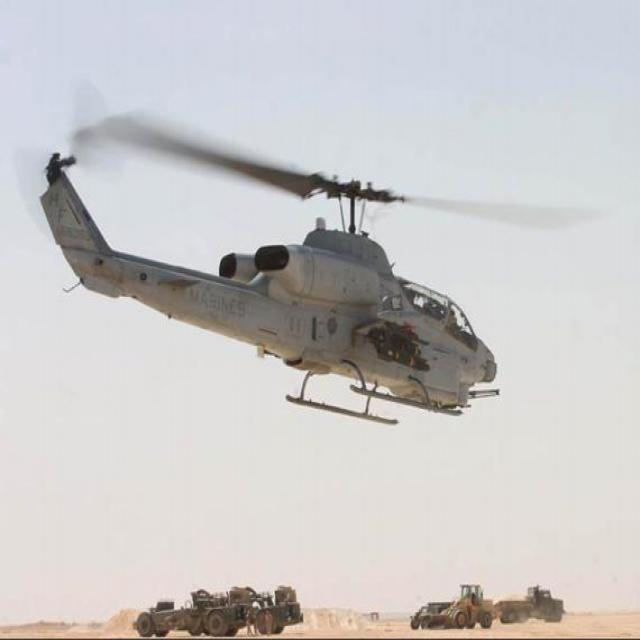MIL_HELO: (40, 111, 588, 429)
